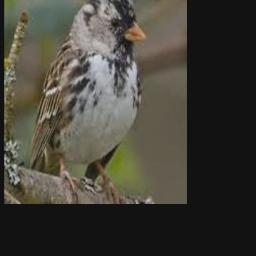Sparrow: (29, 0, 146, 204)
